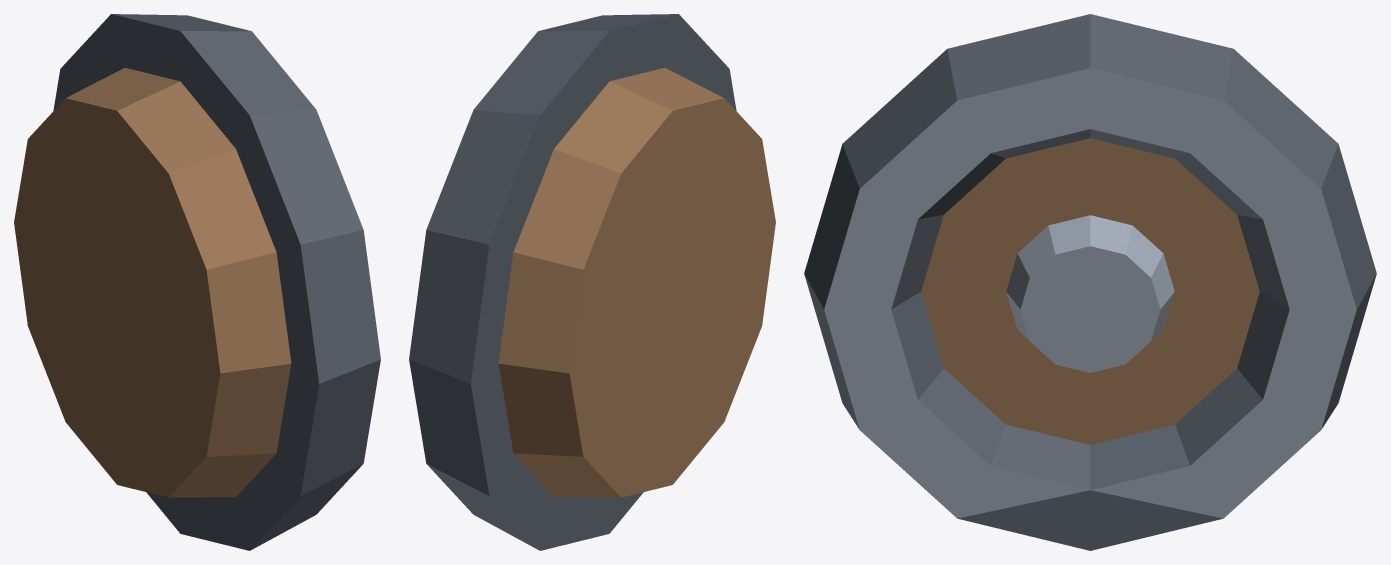
Rendered from shield.dae.
3 views of the same model, side by side, from view 1: azimuth 30°, elevation 25°; view 2: azimuth 150°, elevation 25°; view 3: azimuth 270°, elevation 25° (orthographic). The views are drawn at different scales.
Visible parts, largest first — view 1: shield; view 2: shield; view 3: shield.
Part boxes in pixels (bbox=[...]): shield: bbox=[14, 14, 380, 550]; shield: bbox=[409, 14, 775, 550]; shield: bbox=[804, 14, 1376, 550].
Size of the model in its own units: 0.1683 by 0.6 by 0.6.
